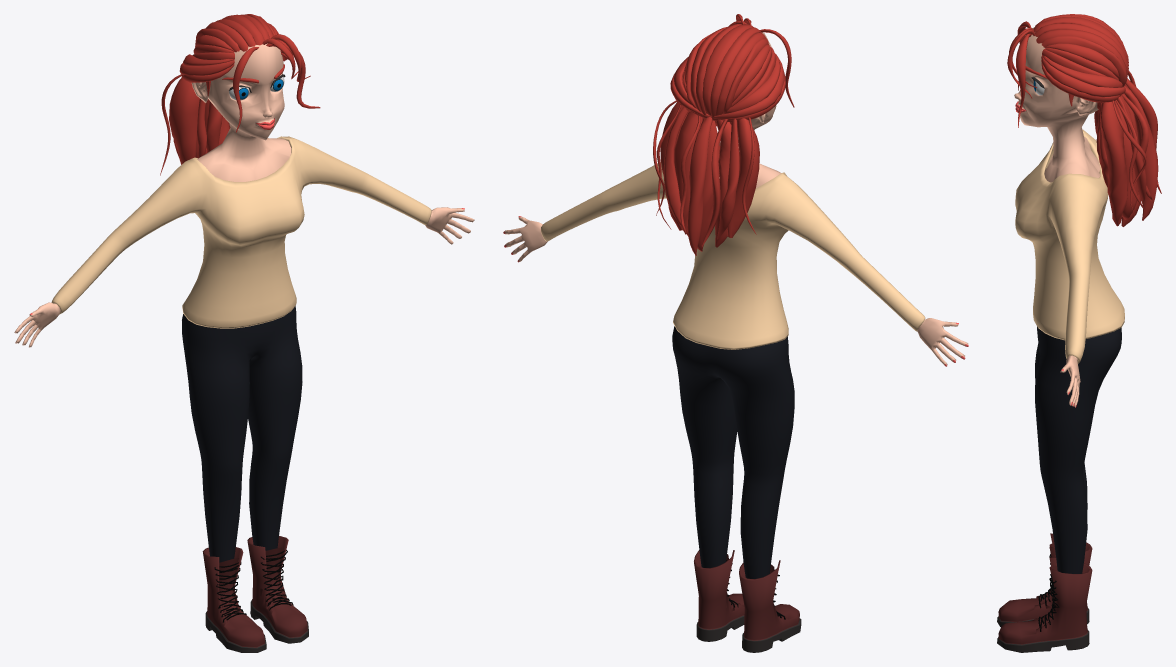
The picture shows the model from 3 angles, left to right: view 1: azimuth 30°, elevation 25°; view 2: azimuth 150°, elevation 25°; view 3: azimuth 270°, elevation 25°; orthographic projection. The views are drawn at different scales.
Visible parts, largest first — view 1: Shirt, Pants, Model_2, Boots; view 2: Model_2, Pants, Shirt, Boots; view 3: Model_2, Shirt, Pants, Boots.
Part boxes in pixels (x1,y1,x2,y2): Shirt: (51,136,431,328); Pants: (182,306,302,562); Model_2: (14,14,474,347); Boots: (202,536,308,652); Model_2: (503,14,968,366); Pants: (672,326,794,578); Shirt: (541,162,925,349); Boots: (694,550,801,652); Model_2: (1007,14,1161,407); Shirt: (1015,129,1124,363); Pants: (1035,326,1121,573); Boots: (997,533,1092,652).
Bounding box in the file's own units: 389 × 487 × 118.
